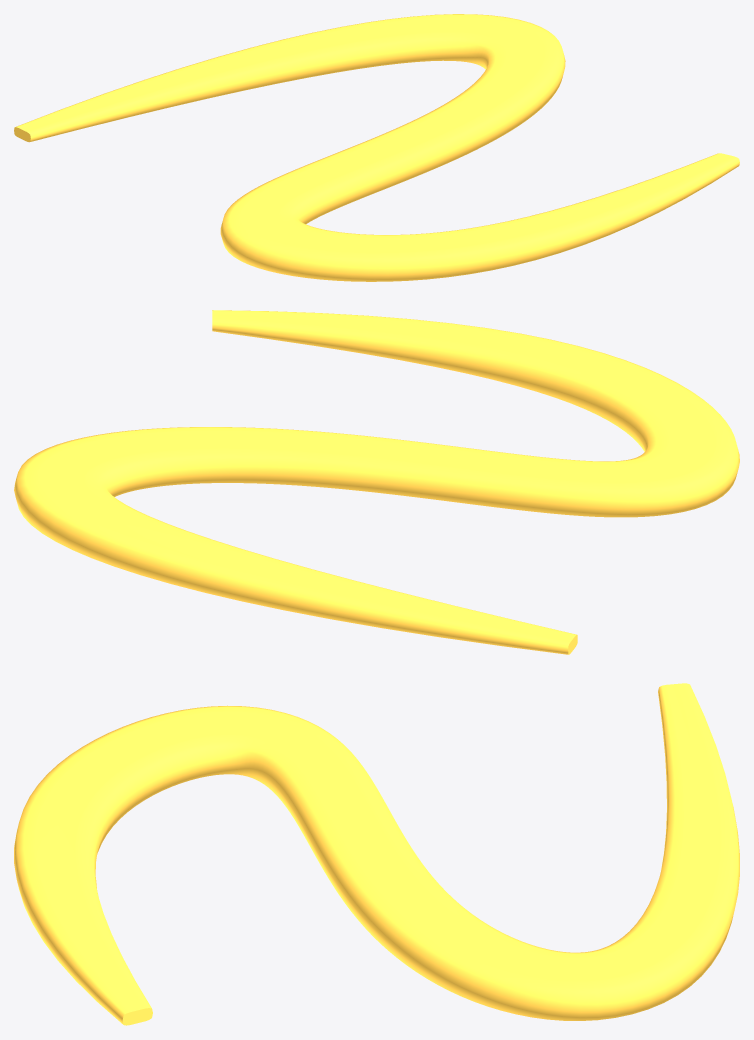
File: 260808_MayoSauce_normal_01.fbx
3 renders of one model, top to bottom at view 1: azimuth 30°, elevation 25°; view 2: azimuth 150°, elevation 25°; view 3: azimuth 270°, elevation 25°, orthographic. The views are drawn at different scales.
Parts seen in each view (by area): view 1: Mayo_normal; view 2: Mayo_normal; view 3: Mayo_normal.
Boxes of the visible parts, x1,y1,x2,y2 form: Mayo_normal: (14,14,739,281); Mayo_normal: (14,310,739,654); Mayo_normal: (14,683,739,1025).
Size of the model in its own units: 89.82 by 4.24 by 83.15.
